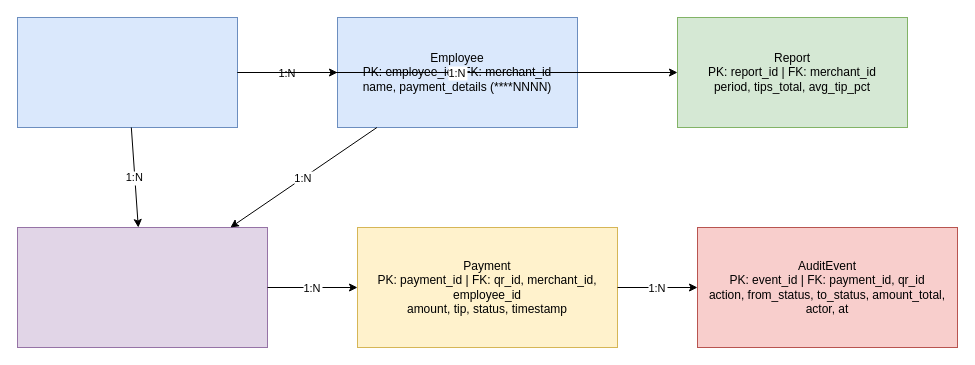
This 975x365 diagram has some shape labels left out. Here are the shapes that lost their labels. From the top down, the box of each, then its label:
(16, 16, 238, 128): Merchant PK: merchant_id name, status, description
(16, 226, 268, 348): QR PK: qr_id | FK: merchant_id, employee_id receipt_id, nonce, exp, signature
